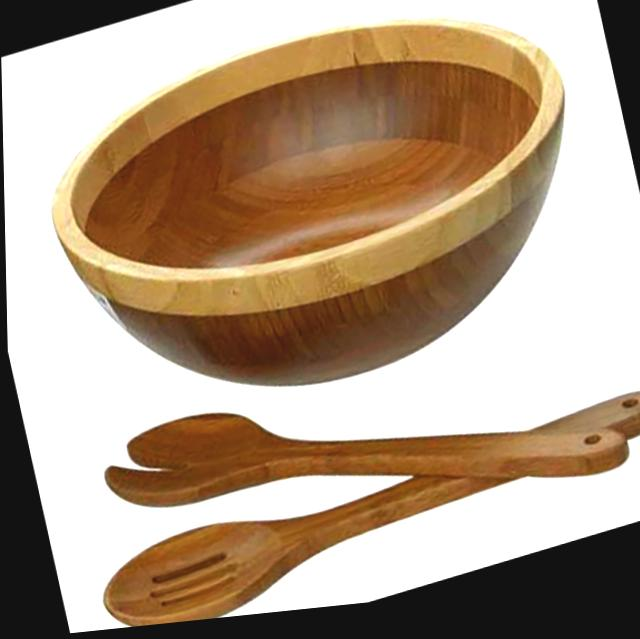Bowl: (52, 20, 563, 385)
Spoon: (103, 476, 509, 626), (105, 414, 628, 507)
